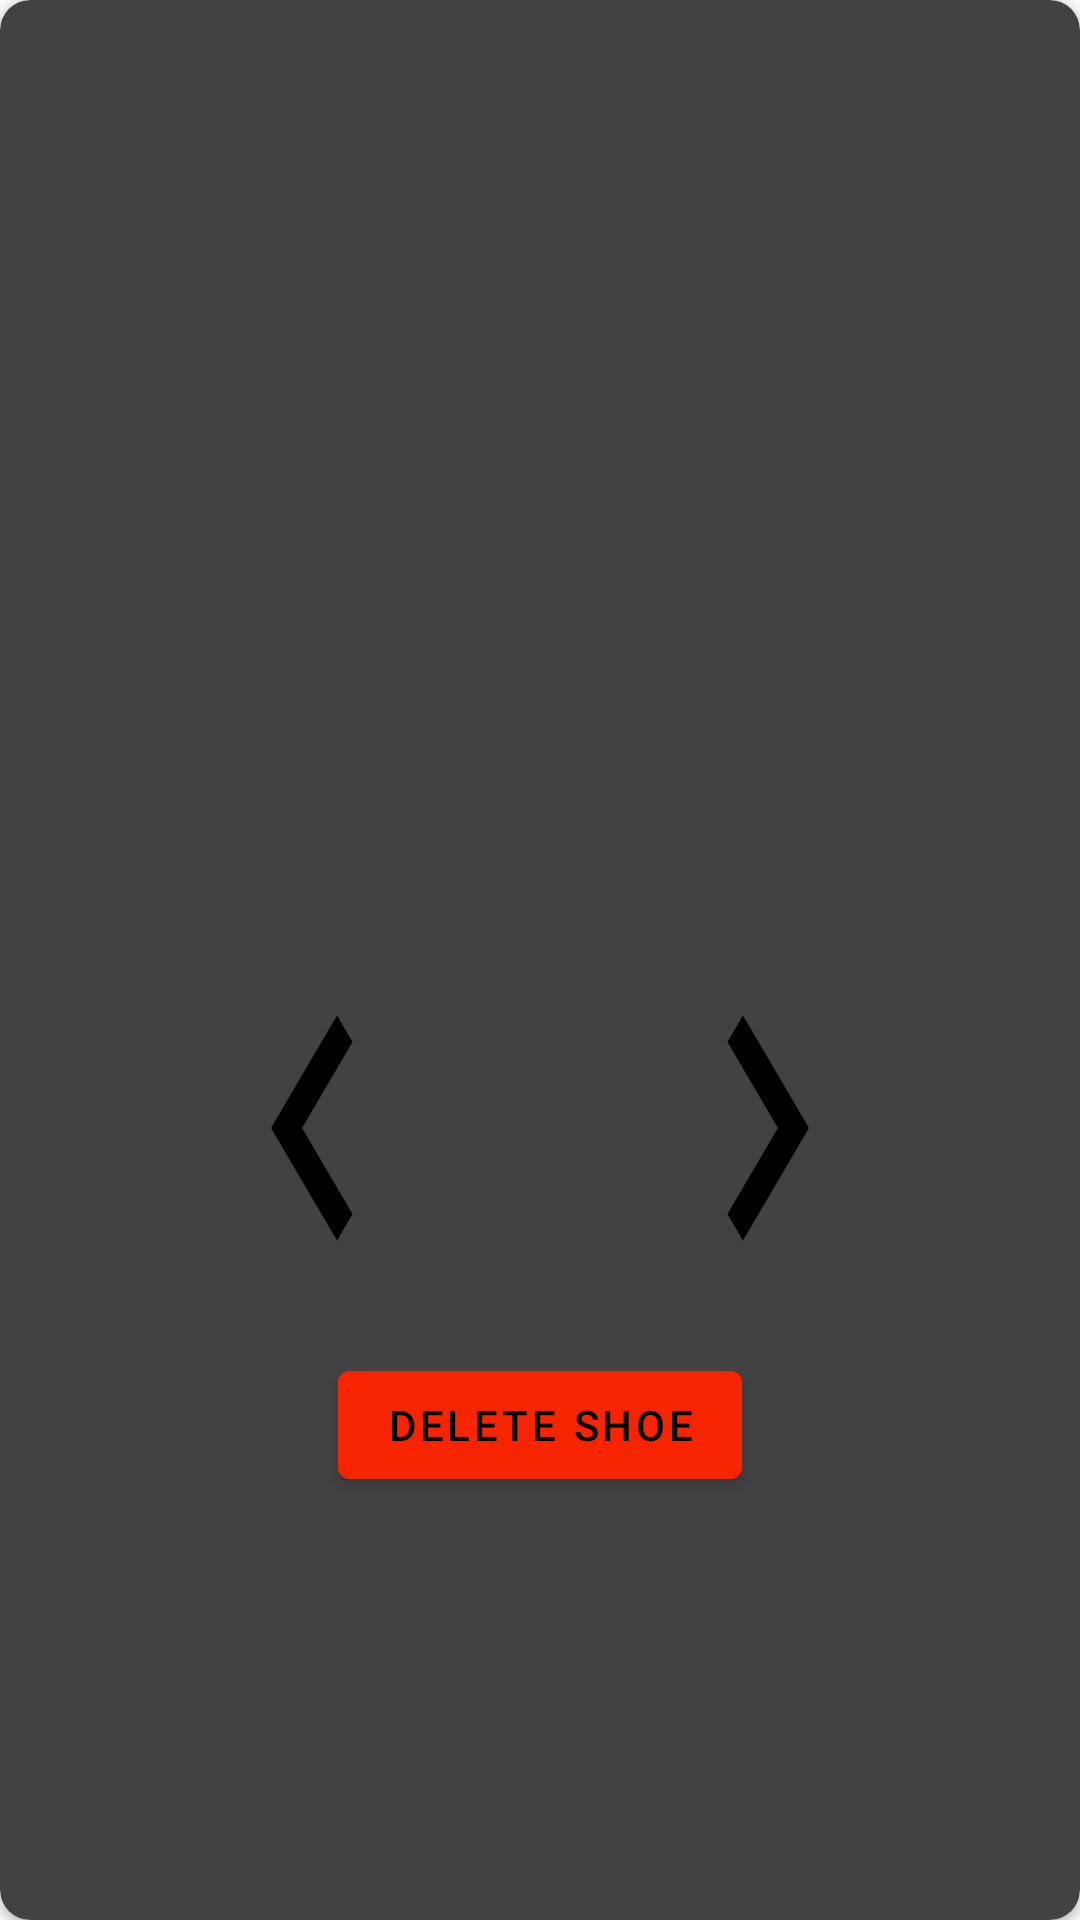

Point at icon controls on the screen. Image size 1080*1920, points as point (x, y).
navigate before: point (311, 1128)
navigate next: point (768, 1128)
